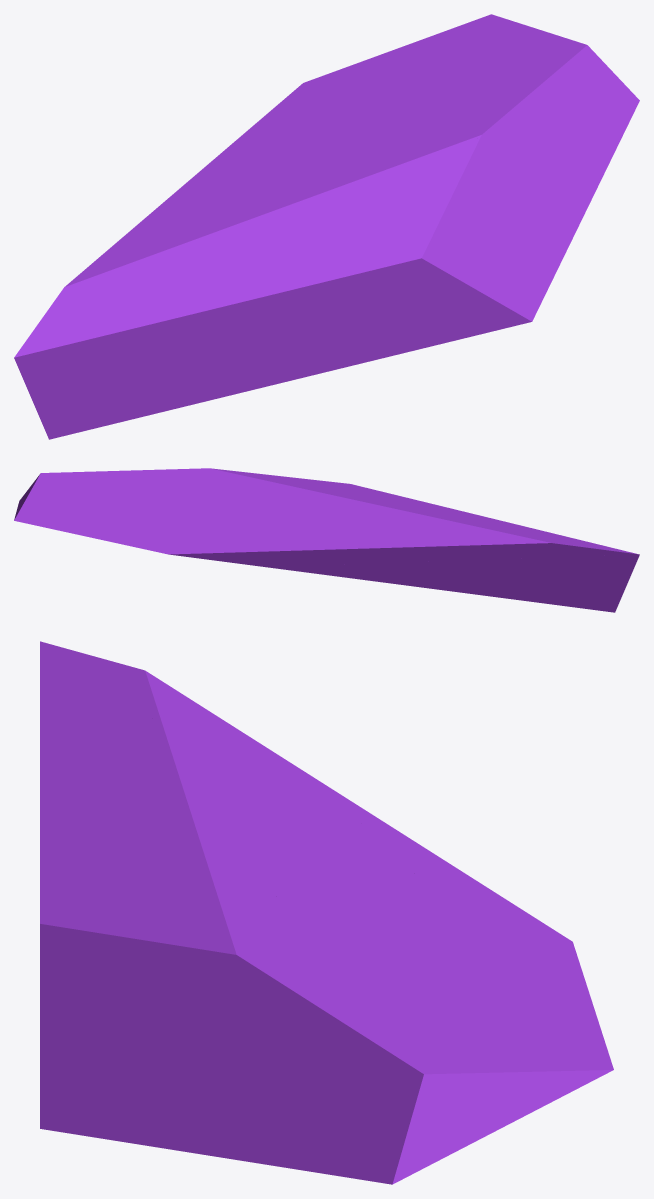
File: Window_135_4_chunks.fbx
The picture shows the model from 3 angles, top to bottom: view 1: azimuth 30°, elevation 25°; view 2: azimuth 150°, elevation 25°; view 3: azimuth 270°, elevation 25°; orthographic projection. The views are drawn at different scales.
Parts seen in each view (by area): view 1: Window_135_4_1, Window_135_4_0, Window_135_4_9, Window_135_4_4, Window_135_4_7, Window_135_4_2, Window_135_4_6; view 2: Window_135_4_1, Window_135_4_2, Window_135_4_6, Window_135_4_7, Window_135_4_9, Window_135_4_5, Window_135_4_0; view 3: Window_135_4_1, Window_135_4_0, Window_135_4_9, Window_135_4_7, Window_135_4_6.
Boxes of the visible parts, left/top/right/bottom form: Window_135_4_1: left=238, top=14, right=639, bottom=213; Window_135_4_0: left=315, top=138, right=584, bottom=359; Window_135_4_9: left=16, top=219, right=334, bottom=354; Window_135_4_4: left=160, top=287, right=374, bottom=411; Window_135_4_7: left=205, top=139, right=387, bottom=252; Window_135_4_2: left=14, top=323, right=164, bottom=439; Window_135_4_6: left=50, top=167, right=237, bottom=307; Window_135_4_1: left=14, top=468, right=284, bottom=569; Window_135_4_2: left=415, top=545, right=639, bottom=612; Window_135_4_6: left=325, top=514, right=577, bottom=564; Window_135_4_7: left=270, top=486, right=402, bottom=566; Window_135_4_9: left=388, top=497, right=634, bottom=556; Window_135_4_5: left=283, top=561, right=424, bottom=582; Window_135_4_0: left=214, top=468, right=423, bottom=501; Window_135_4_1: left=212, top=867, right=613, bottom=1184; Window_135_4_0: left=40, top=851, right=248, bottom=1155; Window_135_4_9: left=40, top=642, right=196, bottom=860; Window_135_4_7: left=88, top=792, right=454, bottom=900; Window_135_4_6: left=114, top=662, right=396, bottom=830.
Bounding box in the file's own units: 869 × 146 × 406.
